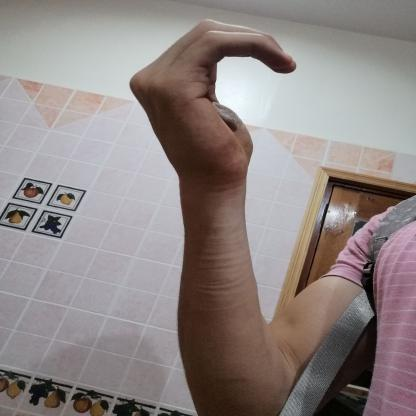HAA: (114, 11, 316, 199)
